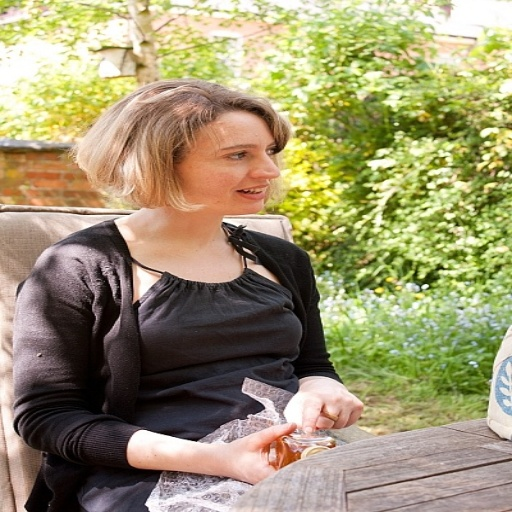hand: (272, 374, 362, 445), (217, 422, 298, 484)
